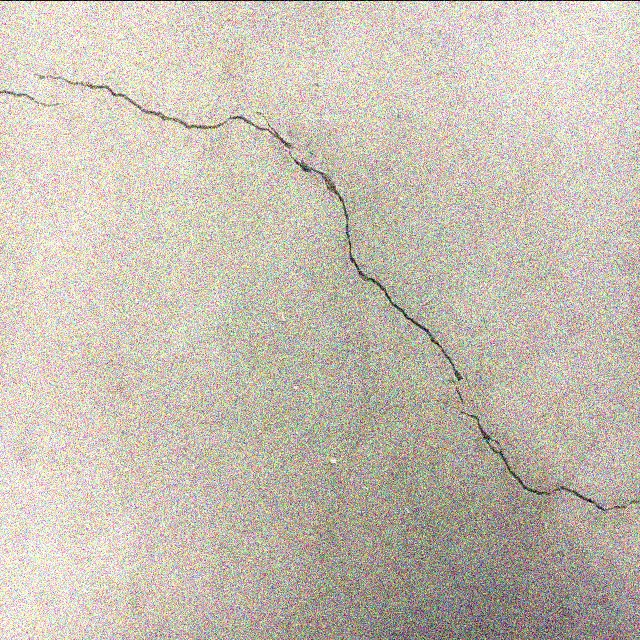SurfaceCrack: (1, 60, 640, 557)
